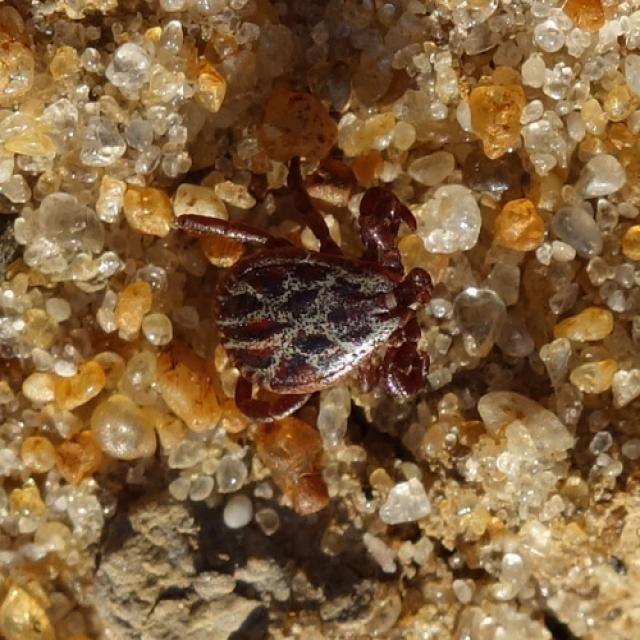Dermacentor Reticulatus-M: (175, 155, 438, 422)
